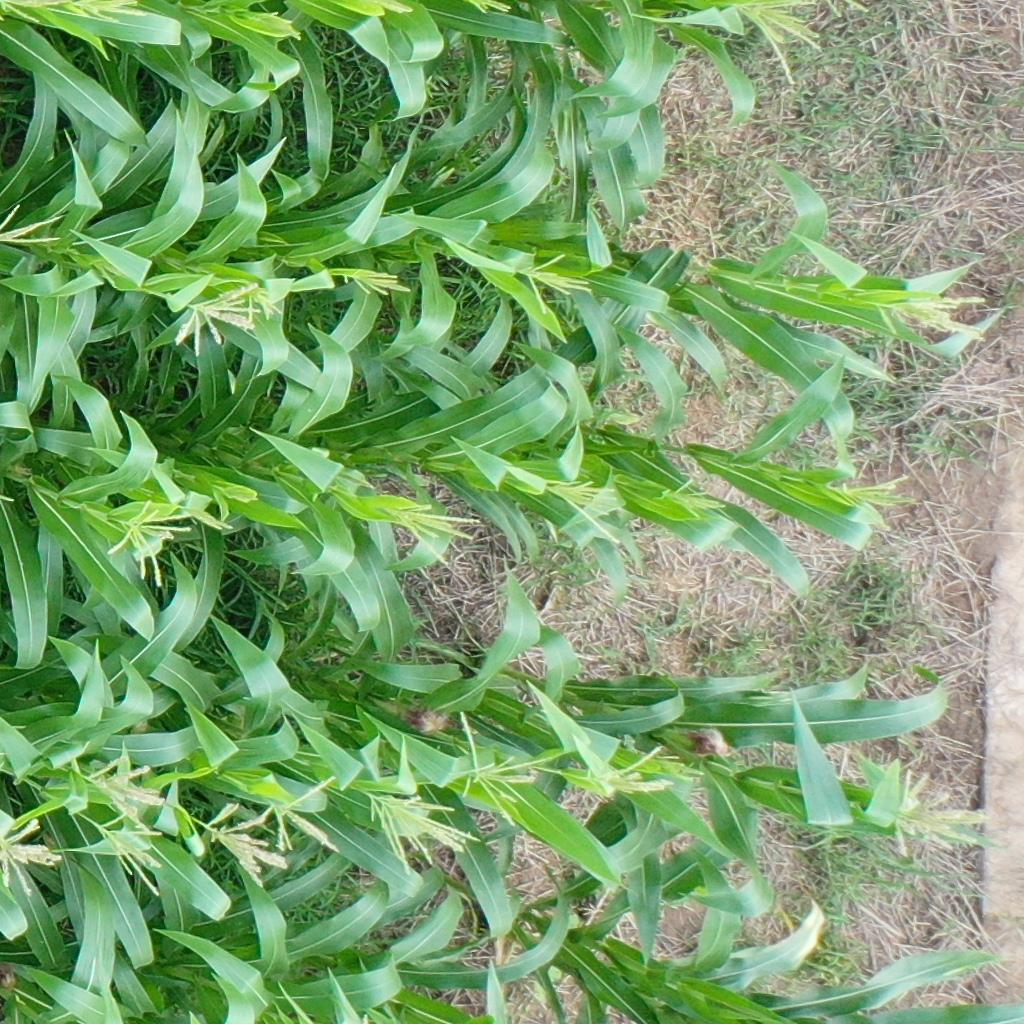Tassel: (453, 708, 558, 830), (356, 780, 482, 877), (886, 761, 988, 871), (103, 491, 196, 590), (729, 1, 822, 92), (880, 272, 989, 349), (199, 800, 292, 888), (75, 753, 168, 835), (572, 739, 676, 810), (167, 279, 262, 356), (542, 474, 634, 549), (393, 496, 487, 569), (821, 461, 917, 529), (99, 813, 172, 900), (267, 774, 344, 855), (1, 813, 64, 902), (518, 248, 593, 315), (1, 1, 148, 34), (1, 202, 70, 256), (660, 473, 729, 526), (231, 3, 305, 47), (338, 260, 411, 300), (241, 278, 286, 323), (655, 745, 702, 785), (194, 493, 235, 536), (452, 1, 518, 16)
